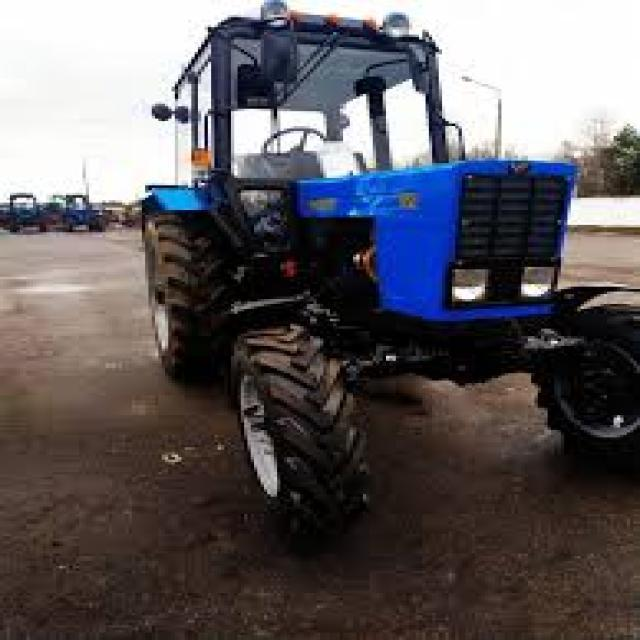Tratores - v5 YOLO V8L 2024-11-13: (66, 14, 640, 526), (58, 182, 112, 252), (0, 190, 50, 242)
